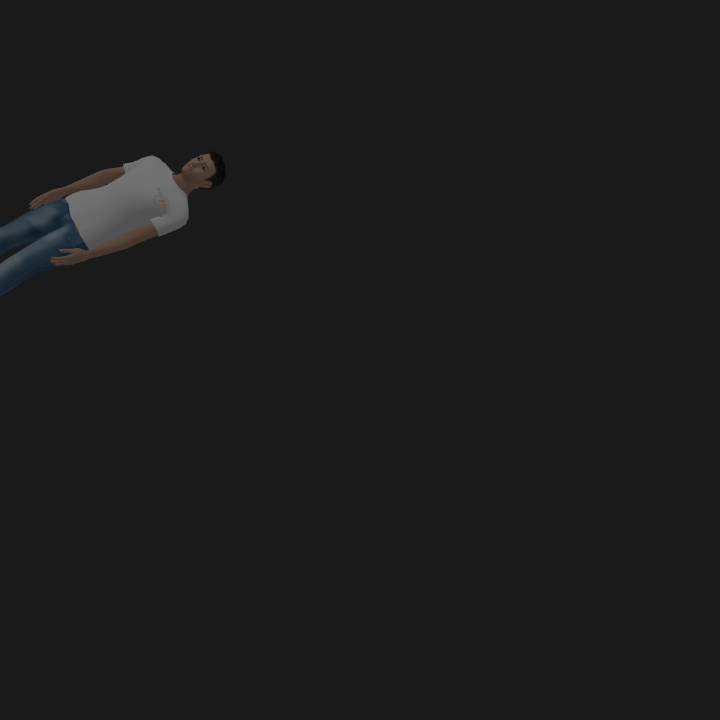victim: (3, 148, 225, 294)
